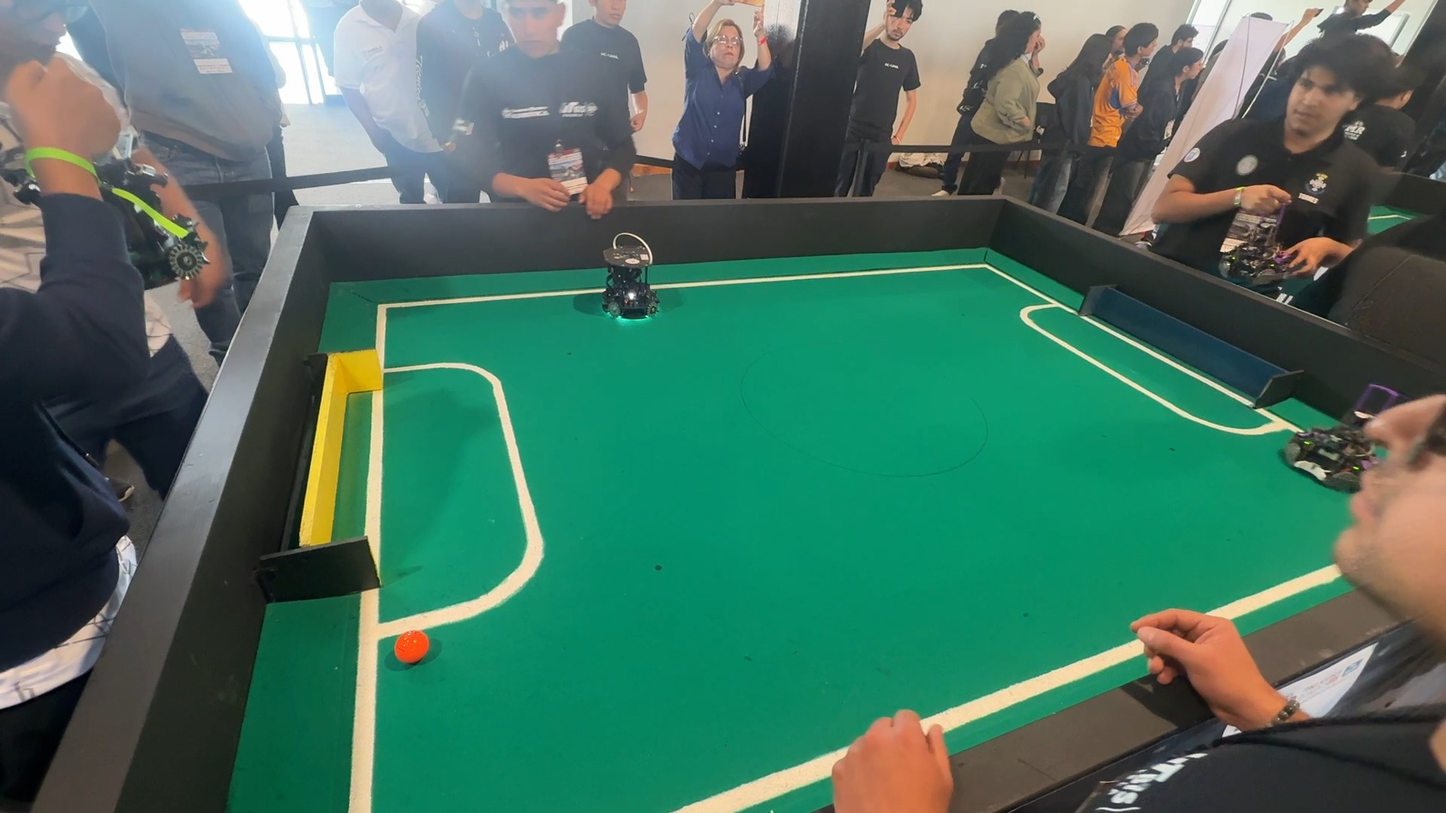Robot: (1265, 381, 1388, 503), (591, 232, 675, 337)
pelota: (387, 626, 440, 671)
